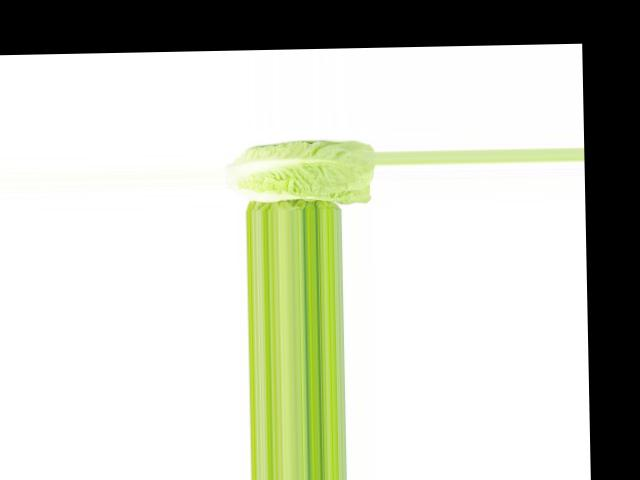lettuce: (224, 129, 377, 203)
